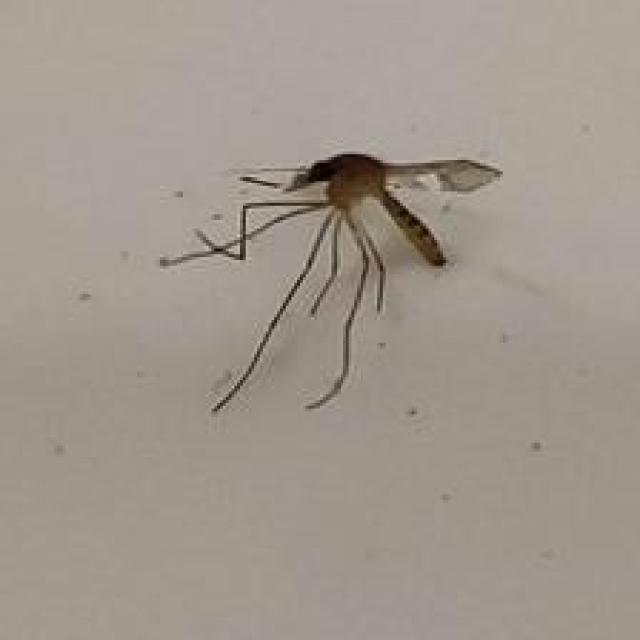Culex: (159, 150, 504, 416)
